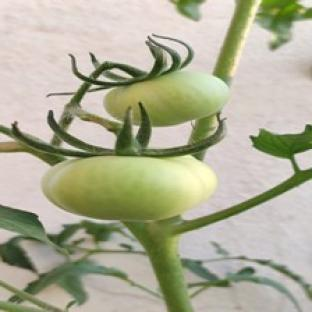Tomato: (42, 156, 217, 221), (105, 72, 229, 126)
